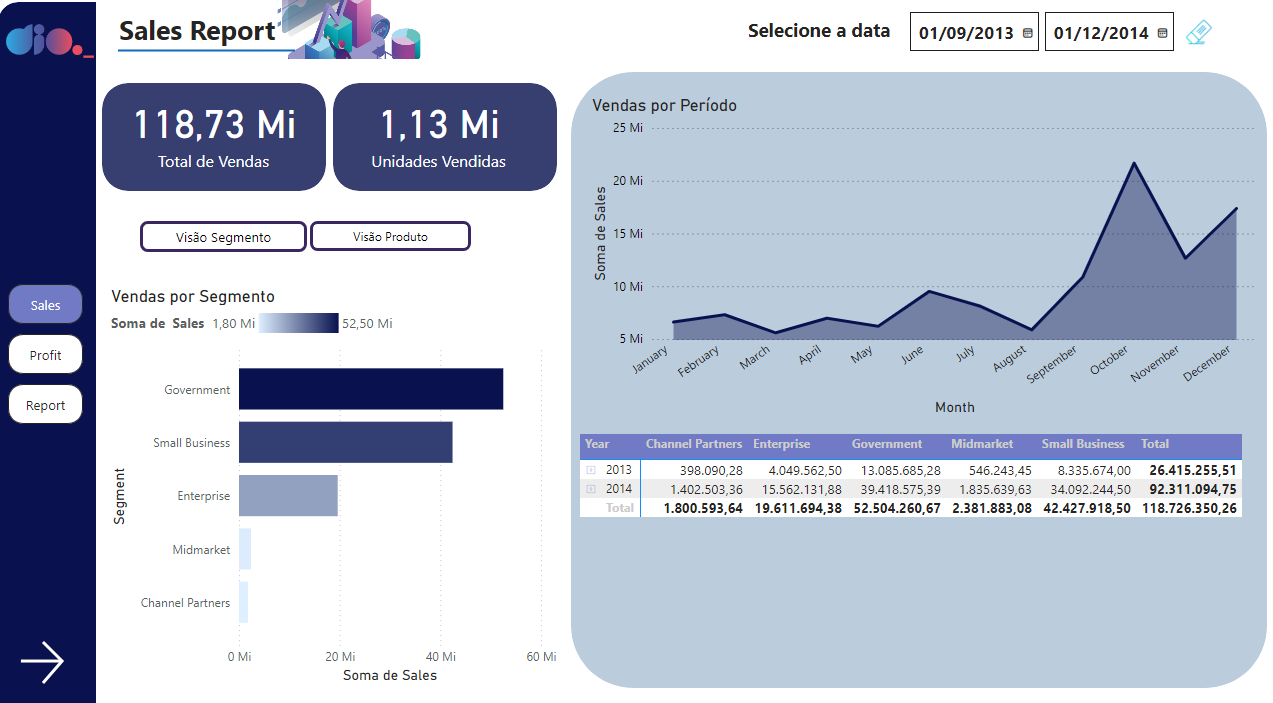

The dashboard page shown, as its layout file describes it:
{"tool":"powerbi","page":{"name":"Sales","canvas":[1280,720],"ordinal":0},"visuals":[{"type":"slicer","fields":{"Values":["financials.Date"]},"box":[899,15,292.3,54.7],"z":0,"group":"g1"},{"type":"shape","box":[573,85,696,616],"z":0},{"type":"image","box":[255,7,192,70],"z":1000},{"type":"textbox","box":[745,25,164,40],"z":1000,"group":"g1"},{"type":"actionButton","title":"Visão Segmento","box":[142,234,167,31],"z":1250,"group":"g2"},{"type":"actionButton","title":"Visão Produto","box":[312,234,161,30],"z":1375,"group":"g2"},{"type":"actionButton","box":[1208.6,23.6,63.4,51.8],"z":2000,"group":"g1"},{"type":"shape","box":[335,96,224,108],"z":2000},{"type":"shape","box":[11.8,15.1,85.7,705.5],"z":4000},{"type":"shape","box":[104,96,224,108],"z":5000},{"type":"shape","box":[0,15,98,706],"z":6000},{"type":"card","fields":{"Values":["Sum(financials. Sales)"]},"box":[123,101,185,84],"z":7000},{"type":"shape","box":[0,15.1,97.4,80.6],"z":8000},{"type":"image","title":"logo_dio","box":[0,6,104,95],"z":9000},{"type":"card","fields":{"Values":["Sum(financials.Units Sold)"]},"box":[348,101,185,84],"z":10000},{"type":"image","title":"clean","box":[1182,24,38,41],"z":11000},{"type":"areaChart","title":"Vendas por Período","fields":{"Category":["financials.Date.Variation.Date Hierarchy.Year","financials.Date.Variation.Date Hierarchy.Quarter","financials.Date.Variation.Date Hierarchy.Month"],"Y":["Sum(financials. Sales)"]},"box":[589,108,675,325],"z":12000},{"type":"group","id":"g1","title":"Filtro por data","box":[745,15,526.9,60.5],"z":13000},{"type":"clusteredBarChart","title":"Vendas por Produto","fields":{"Y":["Sum(financials. Sales)"],"Category":["financials.Product"]},"box":[108,299.1,455,401.9],"z":15000,"group":"g2"},{"type":"actionButton","box":[15.8,648,70.6,54.7],"z":15000},{"type":"textbox","box":[116,19,181,51],"z":16000},{"type":"shape","box":[120,42,177,43],"z":17000},{"type":"group","id":"g2","title":"Grupo 1","box":[108,234,455,467],"z":18000},{"type":"pivotTable","fields":{"Values":["Sum(financials. Sales)"],"Columns":["financials.Segment"],"Rows":["financials.Date.Variation.Date Hierarchy.Year","financials.Date.Variation.Date Hierarchy.Quarter"]},"box":[577,442,687,233],"z":19000},{"type":"pageNavigator","box":[10,297,75,140],"z":20000}]}

Visuals, with their boxes on the page's 1280x720 design canvas (x1, y1, x2, y2). These are canvas units, not pixel positions in the 1273x703 screenshot, which may show the page scaled, cropped or inside an application window:
slicer - financials.Date: [left=899, top=15, right=1191, bottom=70]
shape: [left=573, top=85, right=1269, bottom=701]
image: [left=255, top=7, right=447, bottom=77]
textbox: [left=745, top=25, right=909, bottom=65]
"Visão Segmento" actionButton: [left=142, top=234, right=309, bottom=265]
"Visão Produto" actionButton: [left=312, top=234, right=473, bottom=264]
actionButton: [left=1209, top=24, right=1272, bottom=75]
shape: [left=335, top=96, right=559, bottom=204]
shape: [left=12, top=15, right=98, bottom=721]
shape: [left=104, top=96, right=328, bottom=204]
shape: [left=0, top=15, right=98, bottom=721]
card - Sum(financials. Sales): [left=123, top=101, right=308, bottom=185]
shape: [left=0, top=15, right=97, bottom=96]
"logo_dio" image: [left=0, top=6, right=104, bottom=101]
card - Sum(financials.Units Sold): [left=348, top=101, right=533, bottom=185]
"clean" image: [left=1182, top=24, right=1220, bottom=65]
"Vendas por Período" areaChart: [left=589, top=108, right=1264, bottom=433]
"Filtro por data" group: [left=745, top=15, right=1272, bottom=76]
"Vendas por Produto" clusteredBarChart: [left=108, top=299, right=563, bottom=701]
actionButton: [left=16, top=648, right=86, bottom=703]
textbox: [left=116, top=19, right=297, bottom=70]
shape: [left=120, top=42, right=297, bottom=85]
"Grupo 1" group: [left=108, top=234, right=563, bottom=701]
pivotTable - Sum(financials. Sales) x financials.Segment: [left=577, top=442, right=1264, bottom=675]
pageNavigator: [left=10, top=297, right=85, bottom=437]
